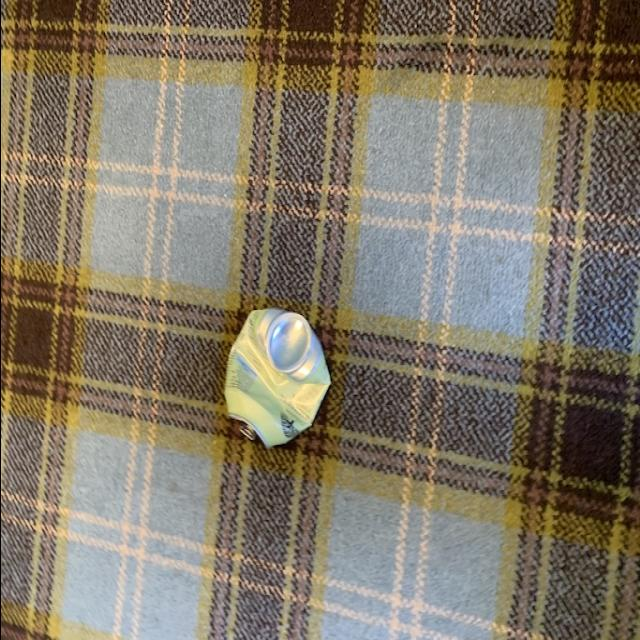Aluminum Can: (218, 315, 325, 453)
